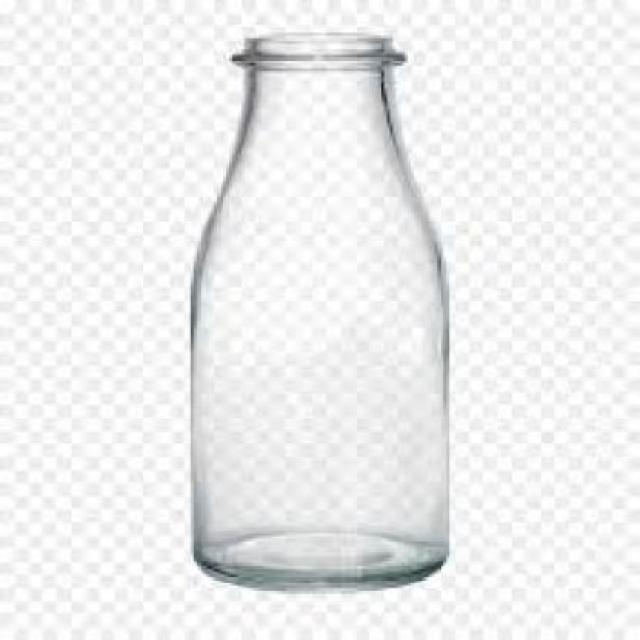kaca: (182, 30, 449, 588)
